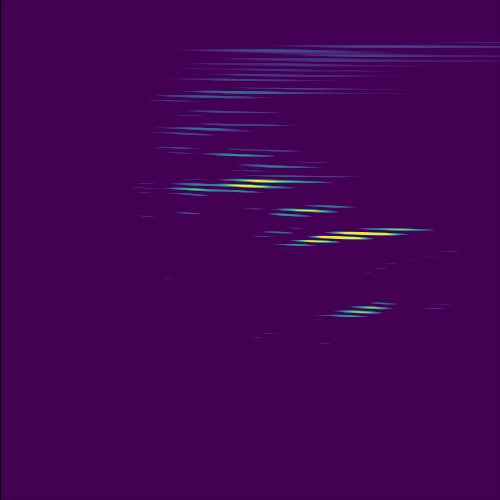semblance: (282, 222, 430, 248), (194, 172, 324, 194), (263, 199, 351, 220), (326, 297, 398, 320)
